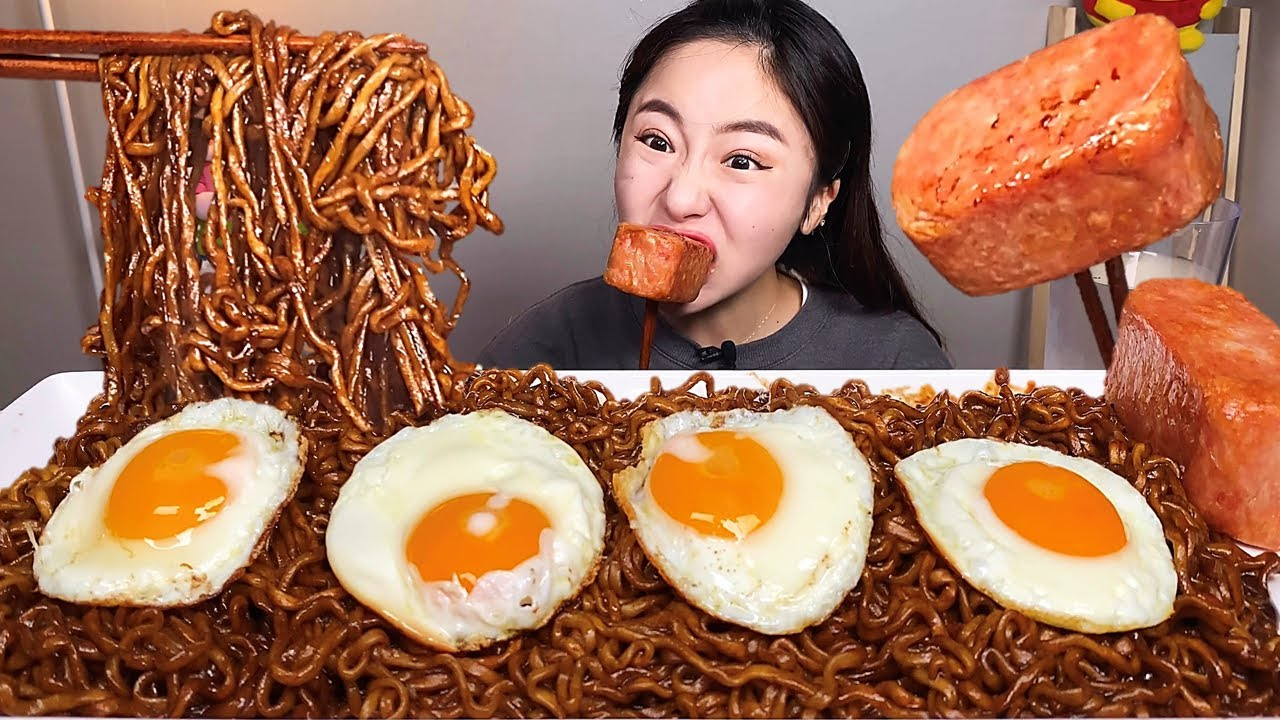gyelanhulai: (338, 415, 602, 651)
